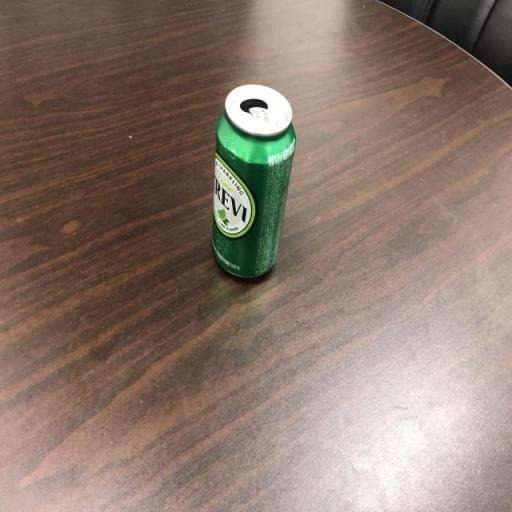metal: (186, 71, 316, 314)
